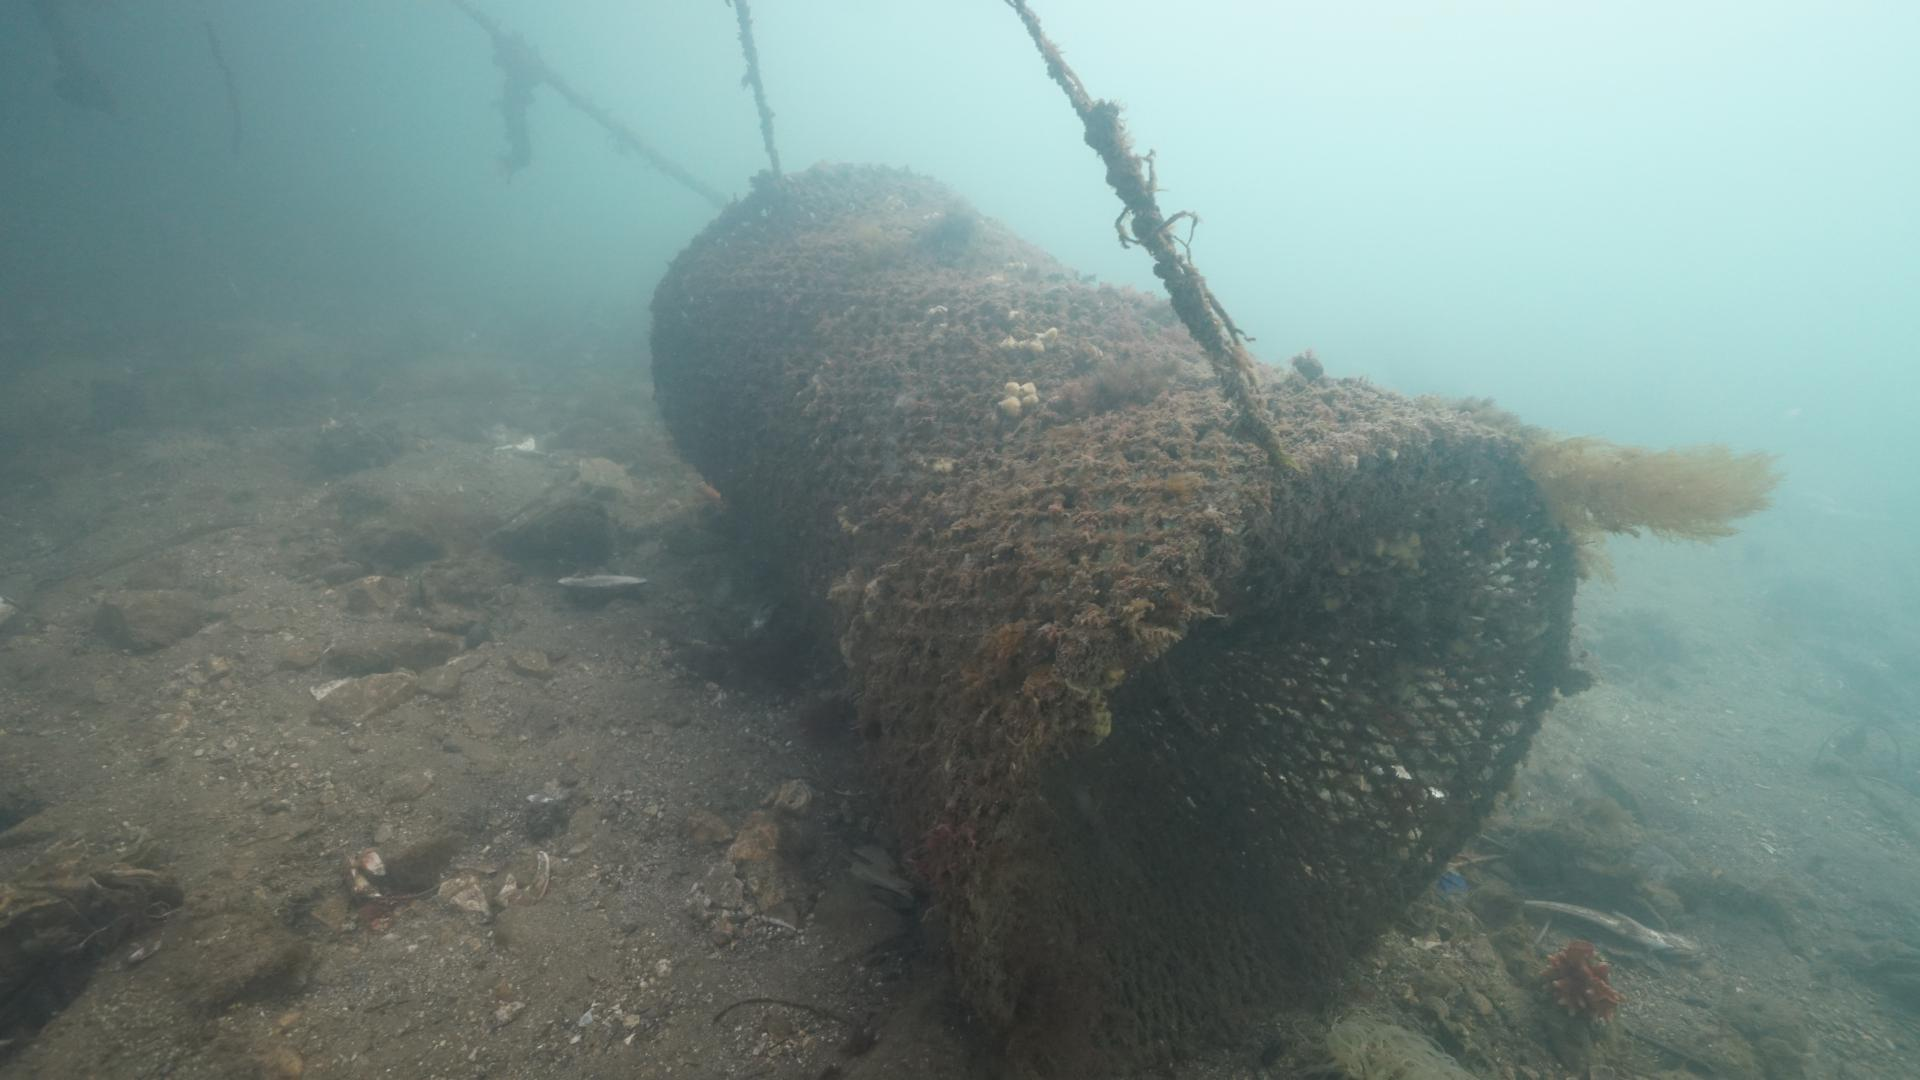rope: (992, 0, 1298, 471), (727, 0, 789, 187)
spring fish trap: (640, 152, 1582, 1067)
